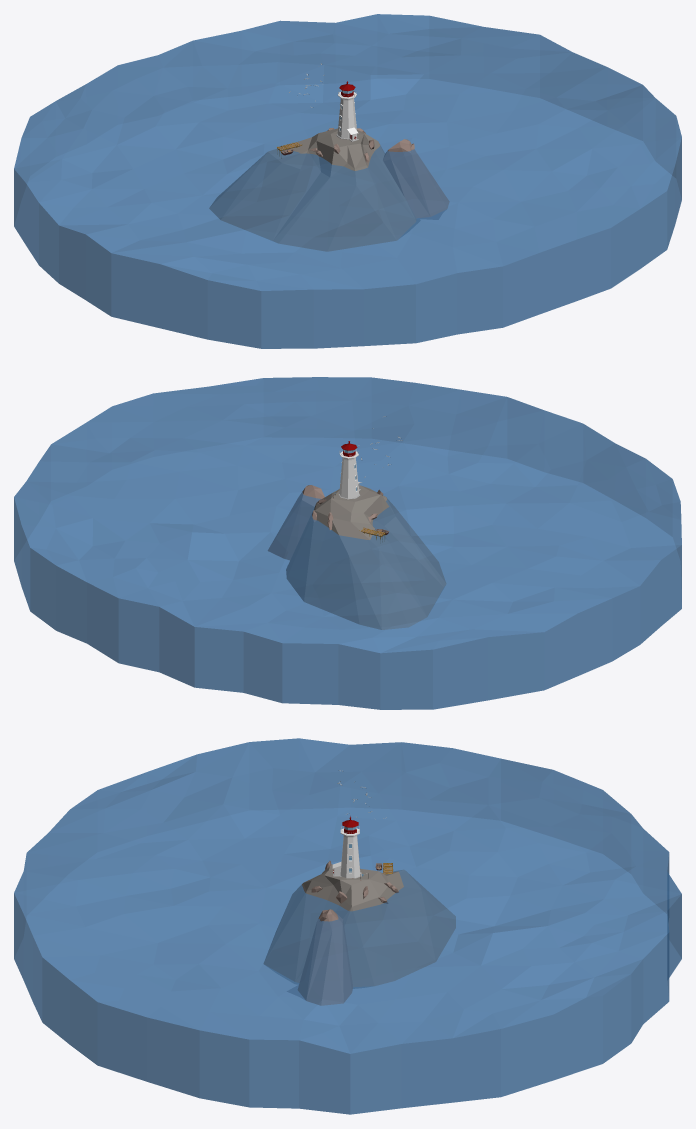
3 renders of one model, top to bottom at view 1: azimuth 30°, elevation 25°; view 2: azimuth 150°, elevation 25°; view 3: azimuth 270°, elevation 25°, orthographic. The views are drawn at different scales.
Parts seen in each view (by area): view 1: ambient, lighthouse; view 2: ambient, lighthouse; view 3: ambient, lighthouse.
Part boxes in pixels (left/top/right/bottom): ambient: left=14, top=14, right=681, bottom=348; lighthouse: left=336, top=81, right=358, bottom=141; ambient: left=14, top=377, right=681, bottom=709; lighthouse: left=333, top=441, right=361, bottom=499; ambient: left=14, top=738, right=681, bottom=1114; lighthouse: left=332, top=816, right=368, bottom=878.
Size of the model in its own units: 4.33 by 1.13 by 3.98.
